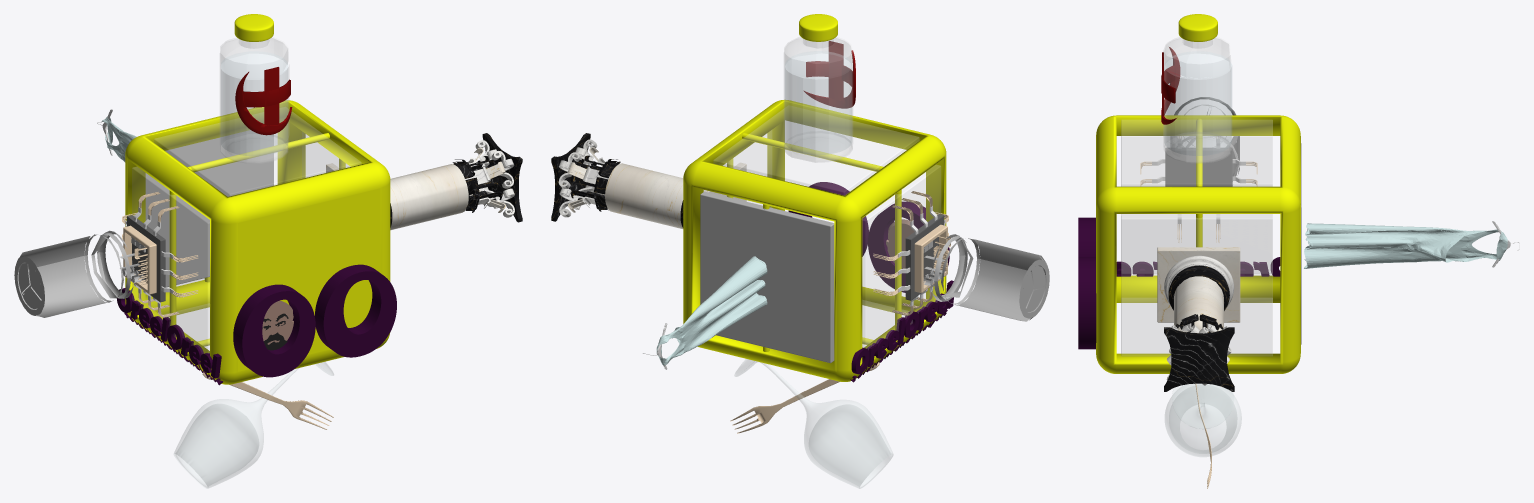
Rendered from HEXplainRBST2.glb.
3 views of the same model, side by side, from view 1: azimuth 30°, elevation 25°; view 2: azimuth 150°, elevation 25°; view 3: azimuth 270°, elevation 25° (orthographic).
Visible parts, largest first — view 1: HEX, OO, GRMN, RMDY, CTHD, VSUL:Cathodic:cth9, MRKT_bottle, nurbsToPoly1, MRKT_bottleLiquid, ANMT:BDY, OreelOreel, VSUL:Cathodic:cth13 (+14 smaller); view 2: HEX, GRMN, MRKT_bottle, RMDY, CTHD, VSUL:Cathodic:cth9, MRKT_bottleLiquid, nurbsToPoly1, DRESS, ANMT:BDY, OO, OreelOreel (+14 smaller); view 3: HEX, GRNT, CTHD, MRKT_bottle, RMDY, DRESS, MRKT_bottleLiquid, nurbsToPoly1, FDBV, ANMT:crown, ANMT:pCube43, OO (+8 smaller).
Boxes of the visible parts, box(x1,y1,x2,y2) form: HEX: box(125, 100, 390, 384); OO: box(233, 264, 396, 377); GRMN: box(145, 130, 273, 287); RMDY: box(154, 109, 361, 196); CTHD: box(132, 167, 209, 353); VSUL:Cathodic:cth9: box(14, 230, 140, 317); MRKT_bottle: box(220, 37, 289, 163); nurbsToPoly1: box(174, 362, 333, 488); MRKT_bottleLiquid: box(221, 51, 287, 155); ANMT:BDY: box(390, 164, 468, 230); OreelOreel: box(117, 288, 221, 378); VSUL:Cathodic:cth13: box(127, 215, 165, 302); HEX: box(683, 100, 946, 381); GRMN: box(700, 191, 834, 363); MRKT_bottle: box(784, 37, 852, 162); RMDY: box(713, 109, 919, 195); CTHD: box(862, 165, 940, 349); VSUL:Cathodic:cth9: box(924, 234, 1049, 321); MRKT_bottleLiquid: box(785, 51, 851, 154); nurbsToPoly1: box(734, 359, 893, 488); DRESS: box(656, 256, 767, 365); ANMT:BDY: box(605, 163, 683, 228); OO: box(788, 182, 949, 292); OreelOreel: box(851, 280, 953, 374); HEX: box(1096, 115, 1300, 373); GRNT: box(1121, 215, 1272, 356); CTHD: box(1121, 136, 1272, 273); MRKT_bottle: box(1163, 37, 1230, 163); RMDY: box(1121, 120, 1272, 186); DRESS: box(1304, 223, 1507, 268); MRKT_bottleLiquid: box(1164, 51, 1231, 155); nurbsToPoly1: box(1165, 384, 1241, 456); FDBV: box(1121, 298, 1272, 352); ANMT:crown: box(1164, 327, 1234, 391); ANMT:pCube43: box(1157, 247, 1240, 322); OO: box(1078, 217, 1096, 349).
Size of the model in its own units: 14.46 by 13.33 by 11.74.
Materials: 17 (3 with a texture image).
